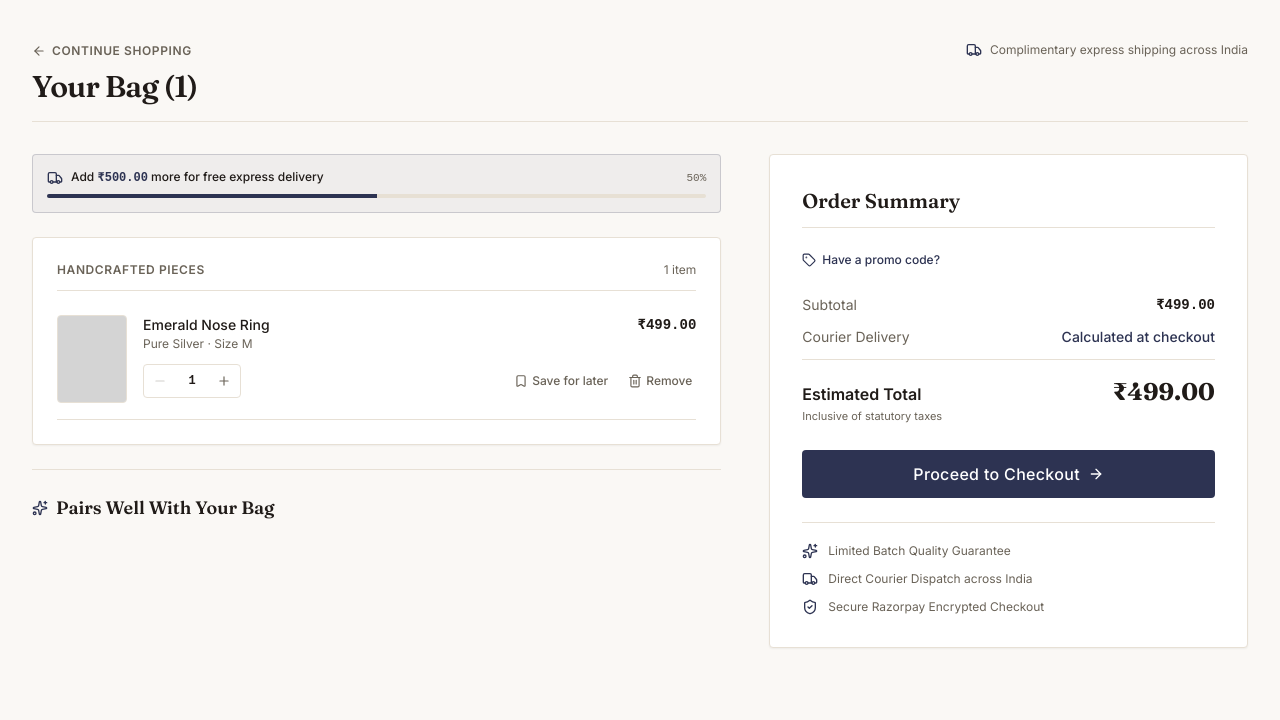
Scenario: CartView Component › moves item to Saved for Later when "Save for later" is clicked
Click the button "Save for later" at {"x": 561, "y": 381}, box [510,369,612,393]
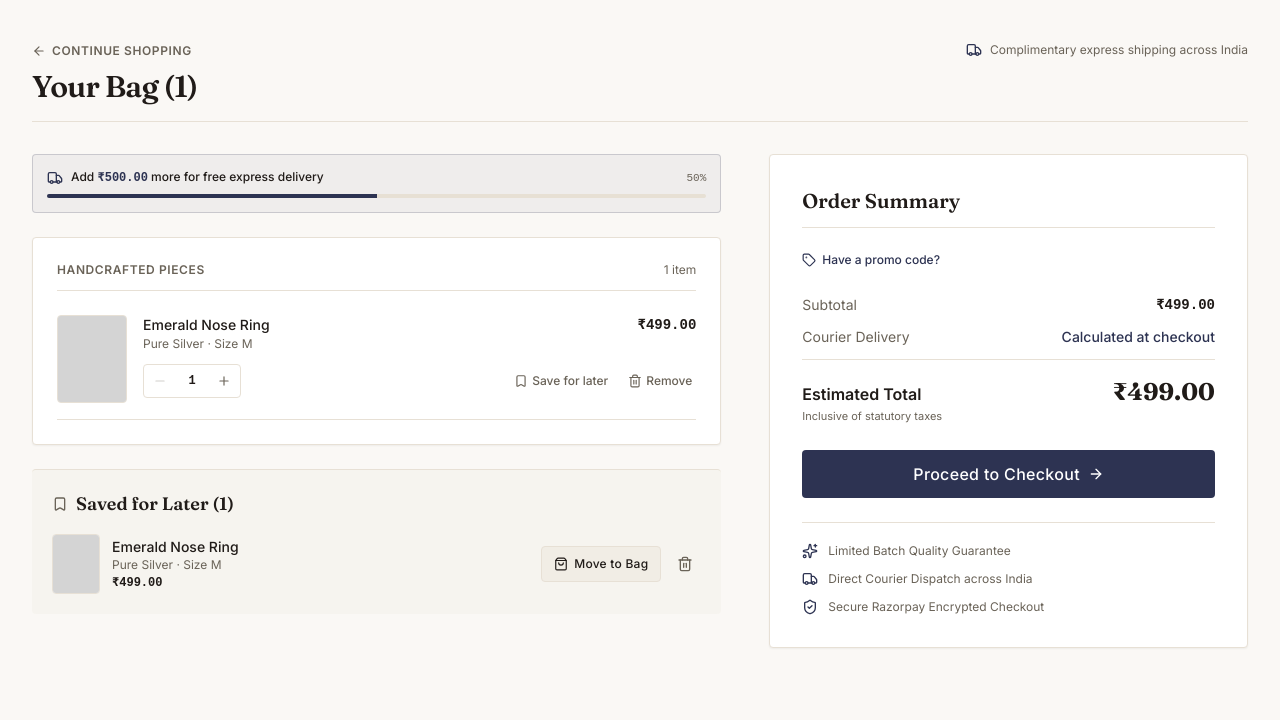
Result: the heading "Saved for Later (1)" is shown at [76,490,234,518]
